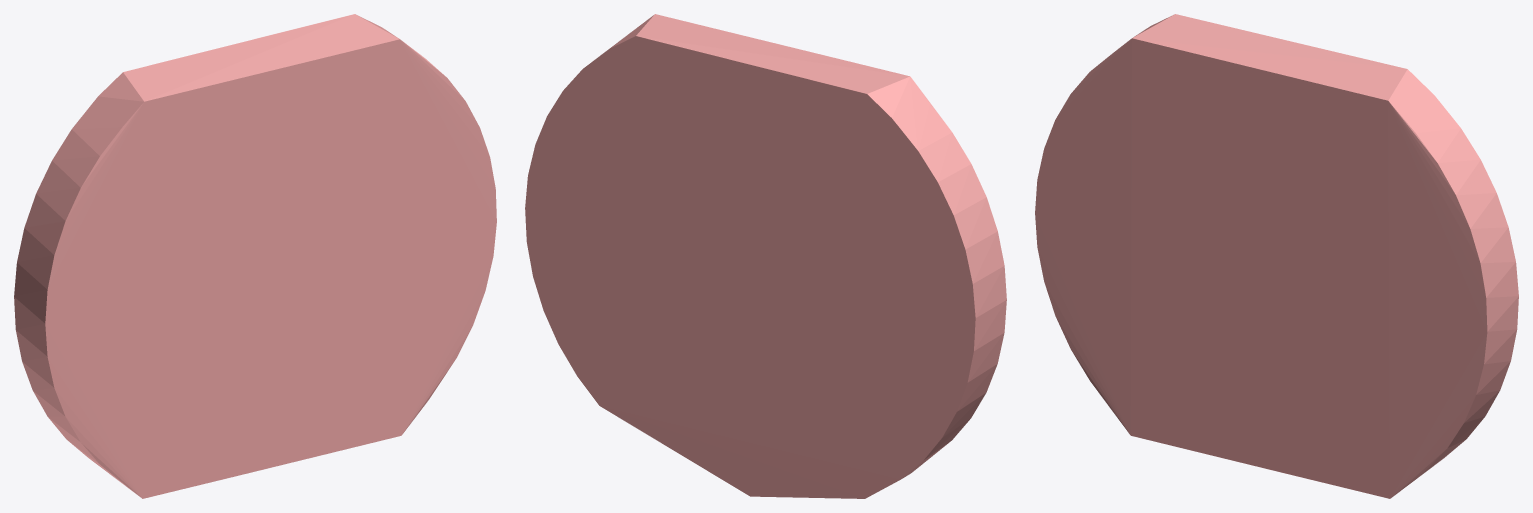
Rendered from exported_panda_FrankaGripper_coll_3.dae.
3 renders of one model, left to right at view 1: azimuth 30°, elevation 25°; view 2: azimuth 150°, elevation 25°; view 3: azimuth 330°, elevation 25°, orthographic.
Parts seen in each view (by area): view 1: node; view 2: node; view 3: node.
Boxes of the visible parts, box(x1,y1,x2,y2) form: node: box(14, 14, 496, 498); node: box(525, 14, 1006, 498); node: box(1035, 14, 1518, 498).
Bounding box in the file's own units: 0.063 × 0.0578 × 0.00787.
